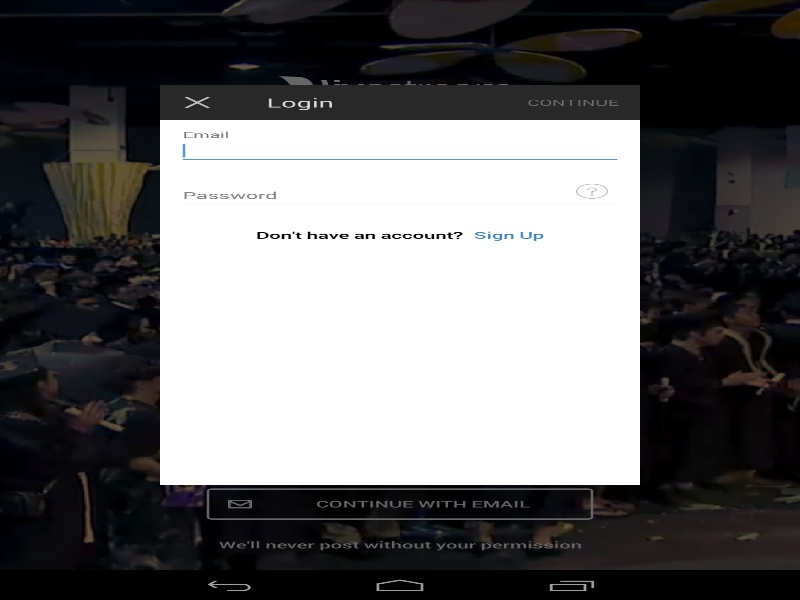Button: (160, 85, 234, 120)
Input: (177, 137, 622, 164), (177, 182, 622, 209)
